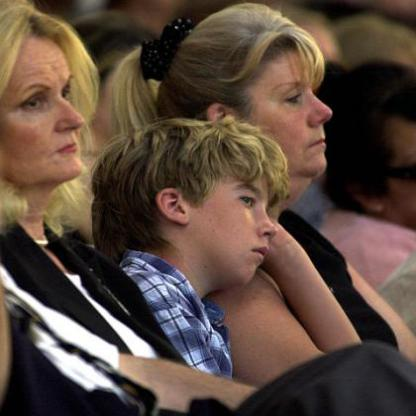face: (226, 2, 343, 185), (1, 9, 100, 189), (189, 127, 291, 292)
